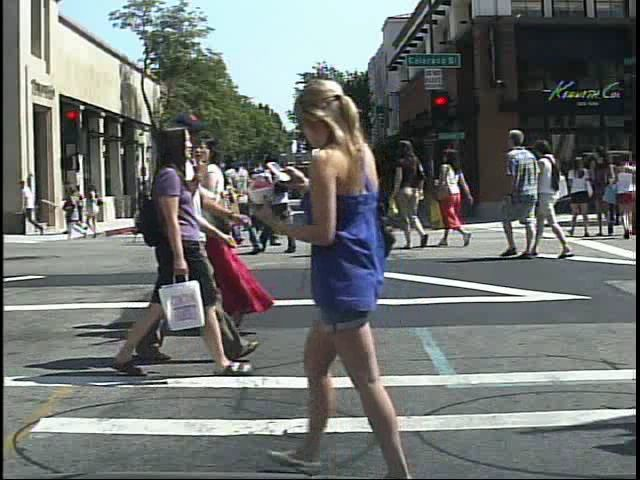person: (273, 72, 468, 478), (118, 113, 240, 383), (178, 105, 251, 366), (192, 132, 264, 339), (186, 133, 230, 334), (342, 137, 386, 259), (533, 133, 574, 263), (221, 139, 263, 261), (500, 127, 537, 261), (437, 145, 481, 255), (400, 136, 438, 255), (249, 148, 291, 249), (210, 152, 248, 251), (178, 155, 217, 251), (565, 148, 597, 241), (155, 172, 176, 241), (69, 182, 89, 232), (272, 150, 273, 257)
